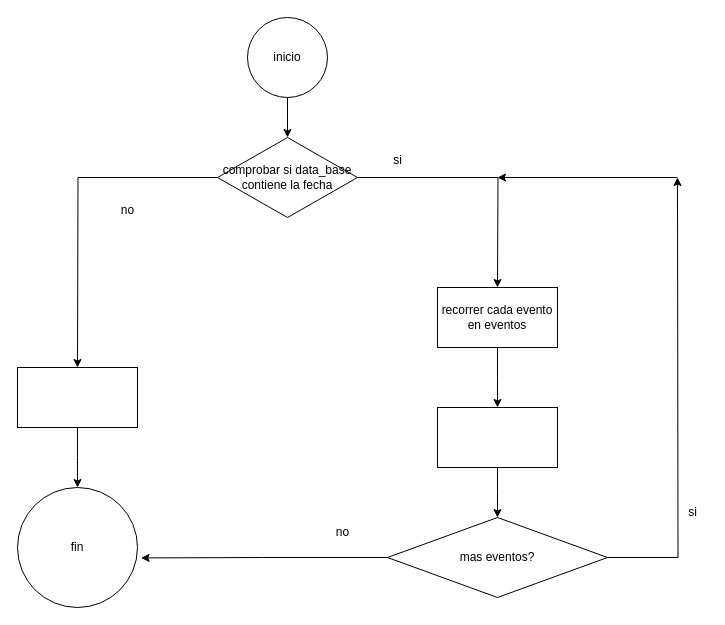
This 725x625 diagram has some shape labels left out. Each missing label, with the centre of its shape:
"imprimir 'no hay eventos para esta fecha'" goes at [77,397].
"imprimir el evento" goes at [497,437].
